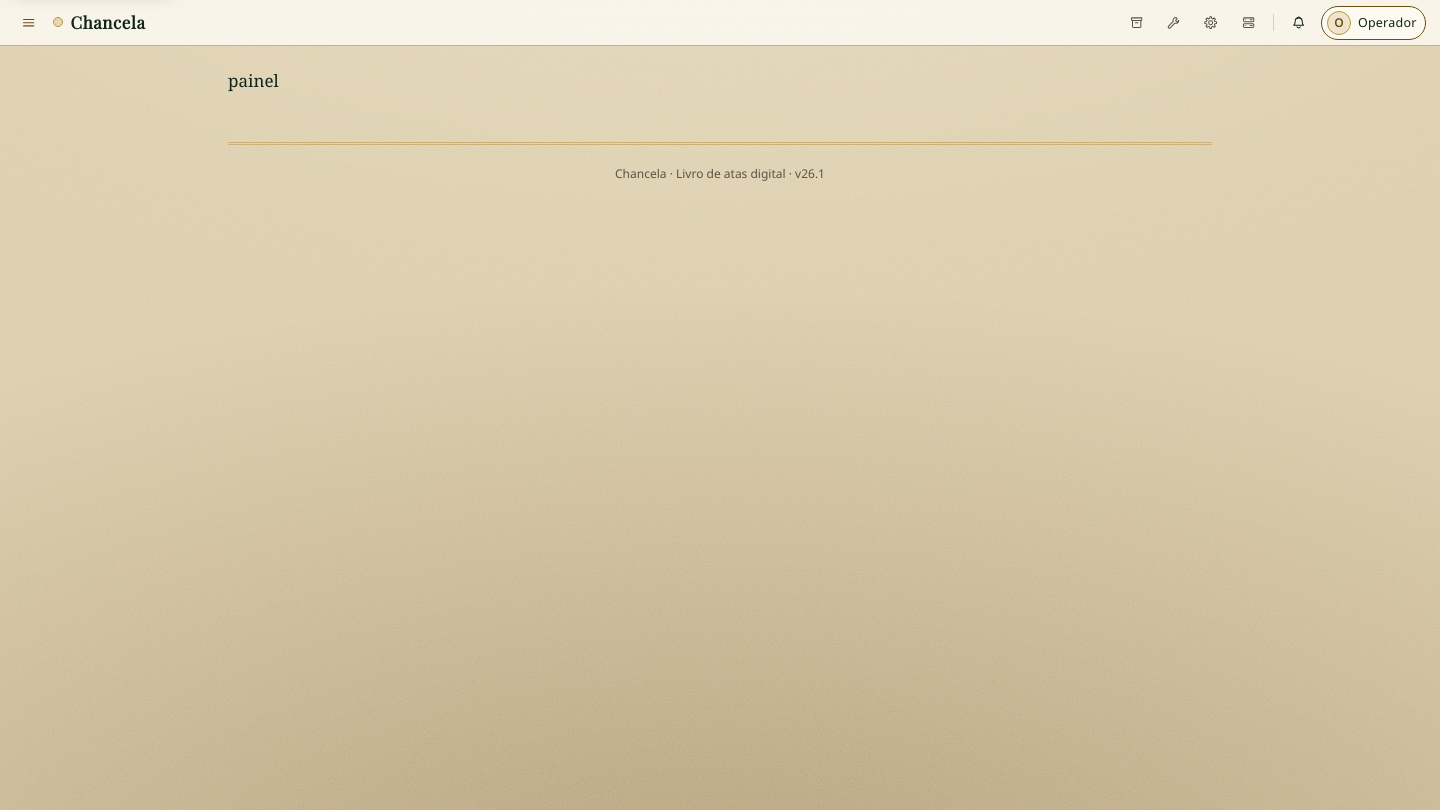
it: Top bar — dropdown accessibility › closes on an outside click via the backdrop
The image size is (1440, 810).
Expected: the text "painel" is shown, [228, 69, 279, 92]
Click the button with test id "topbar-tabs-menu": point(29, 22) [14, 7, 44, 38]
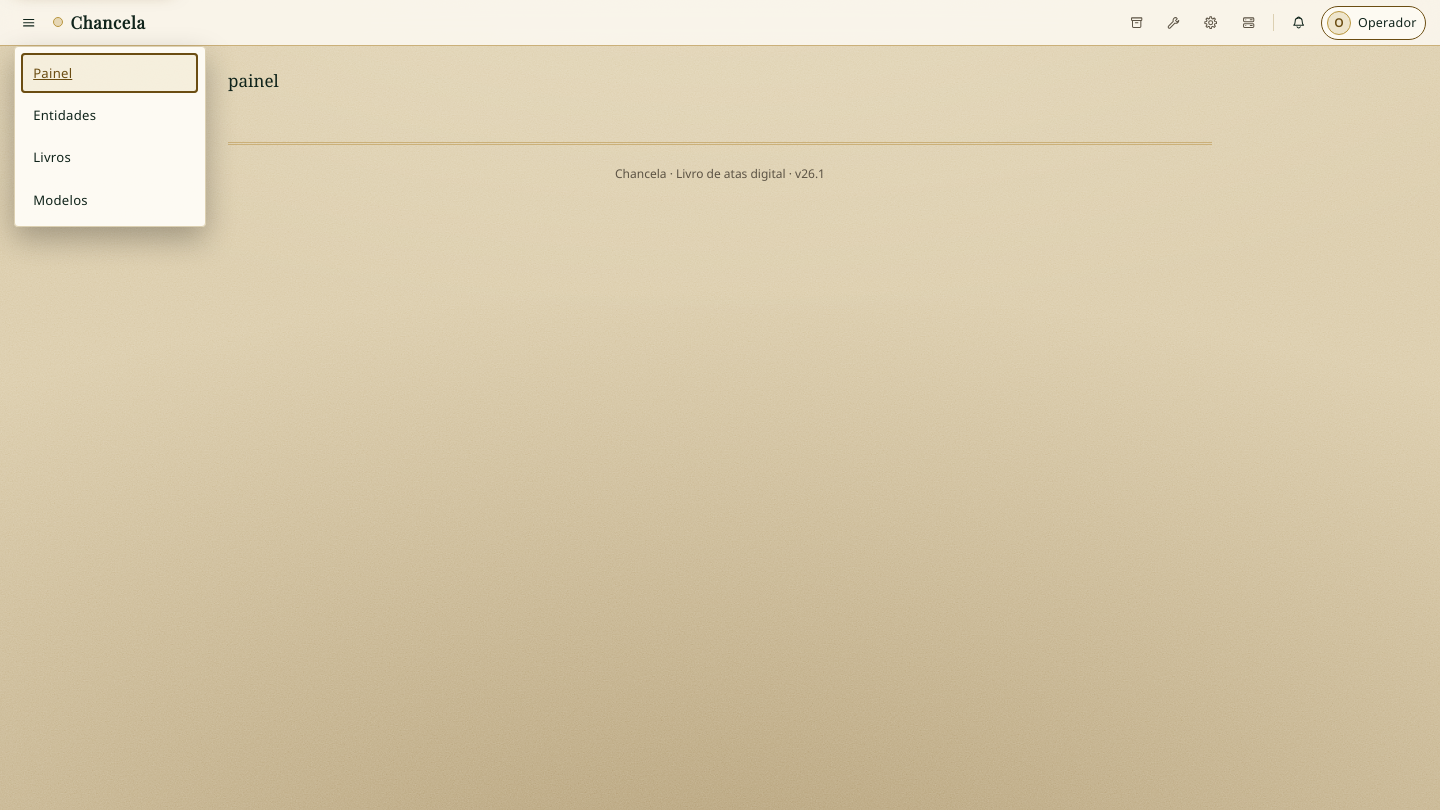
Result: the element with class "topbar__menu-backdrop" is shown
Click the element with class "topbar__menu-backdrop": point(720, 22) [0, 0, 1439, 45]
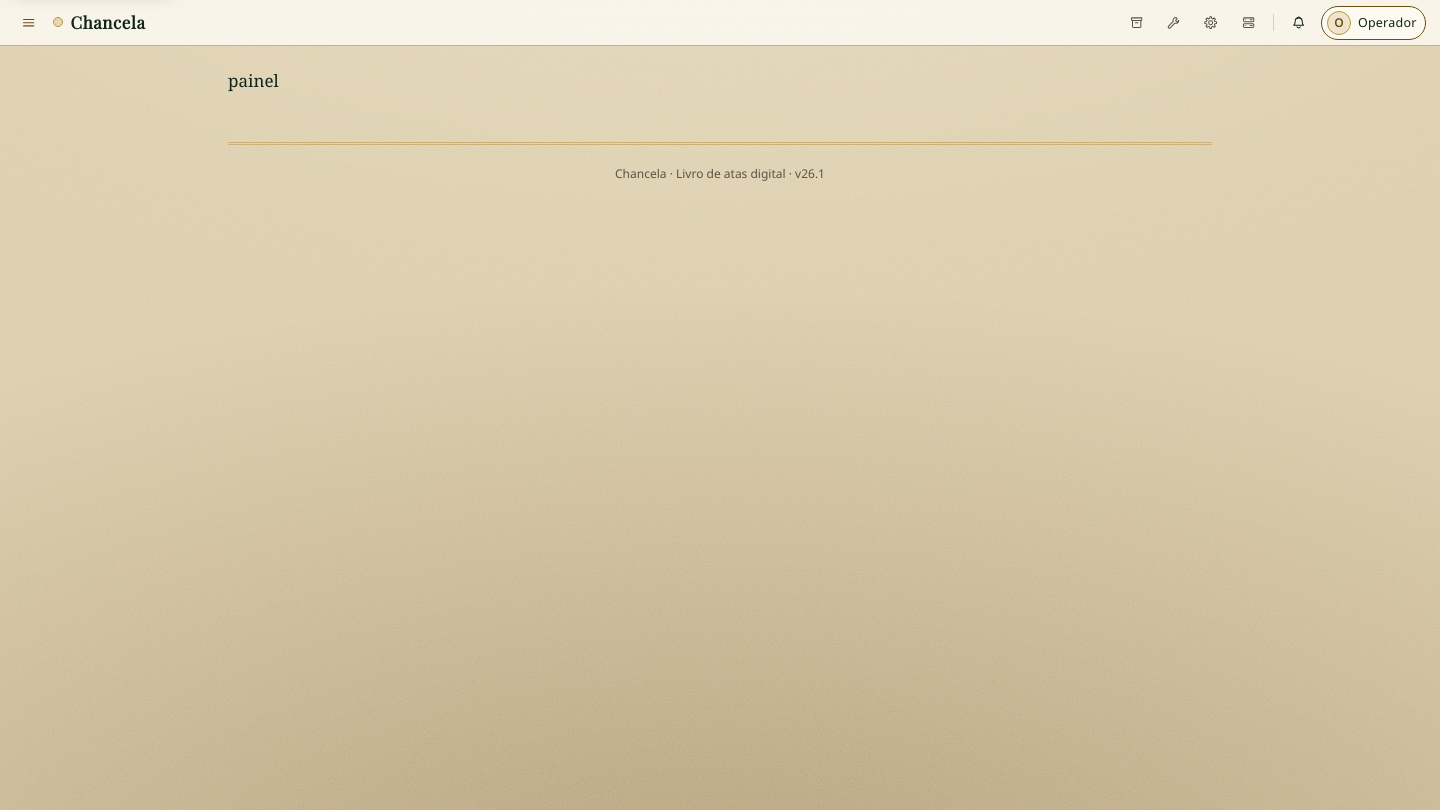
Result: the menu is gone
